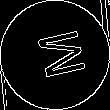M_W: (25, 27, 85, 83)
